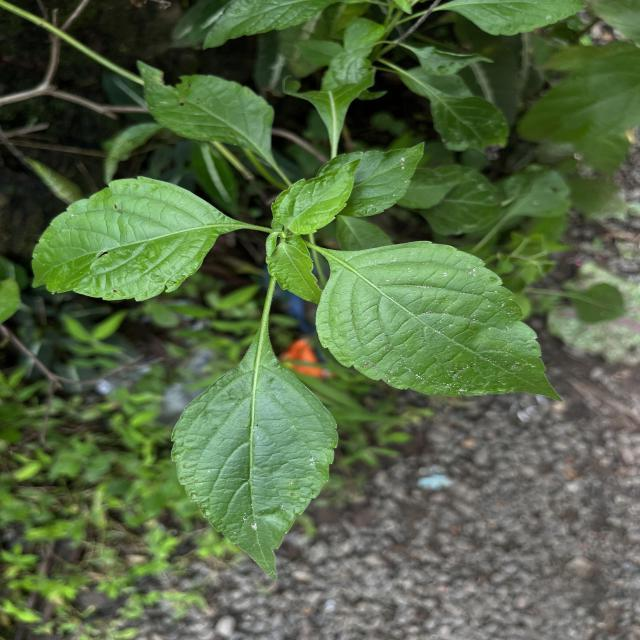Ocimum gratissimum: (167, 292, 342, 583), (311, 236, 569, 406), (26, 172, 252, 304), (135, 58, 285, 179), (268, 155, 366, 239)
